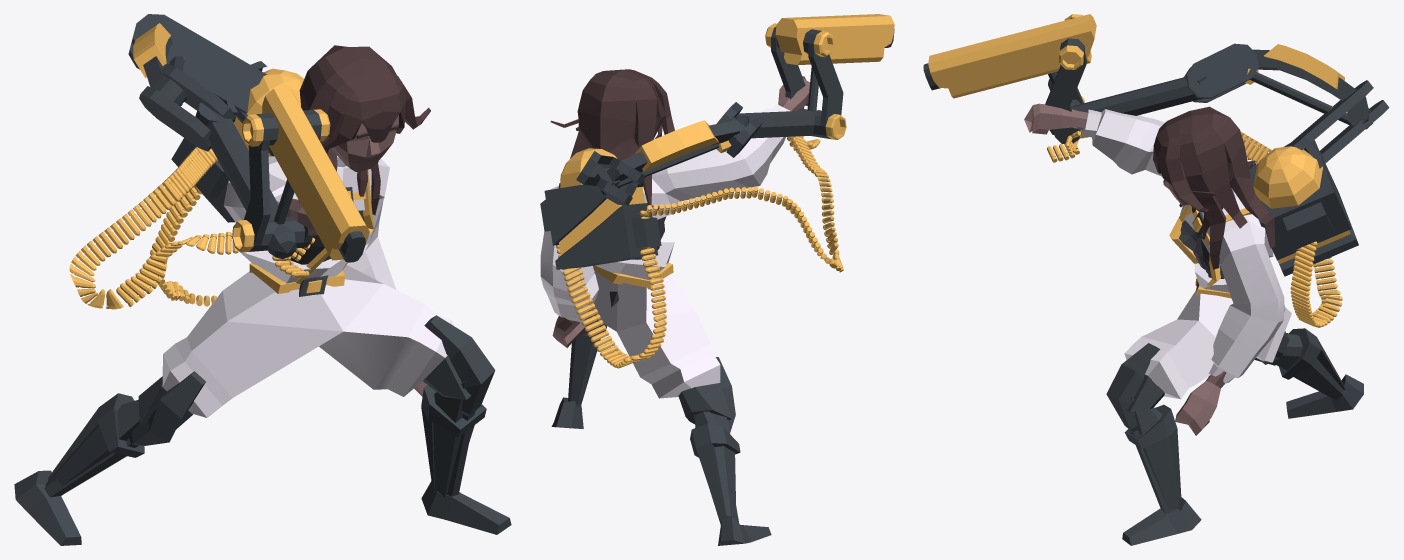
The model's file is TempScreen.fbx.
The picture shows the model from 3 angles, left to right: view 1: azimuth 30°, elevation 25°; view 2: azimuth 150°, elevation 25°; view 3: azimuth 270°, elevation 25°; orthographic projection. The views are drawn at different scales.
Visible parts, largest first — view 1: Player1.002; view 2: Player1.002; view 3: Player1.002.
Boxes of the visible parts, bbox=[...] form: Player1.002: bbox=[14, 14, 511, 545]; Player1.002: bbox=[540, 14, 894, 545]; Player1.002: bbox=[923, 14, 1389, 545].
Bounding box in the file's own units: 122 × 157 × 153.
